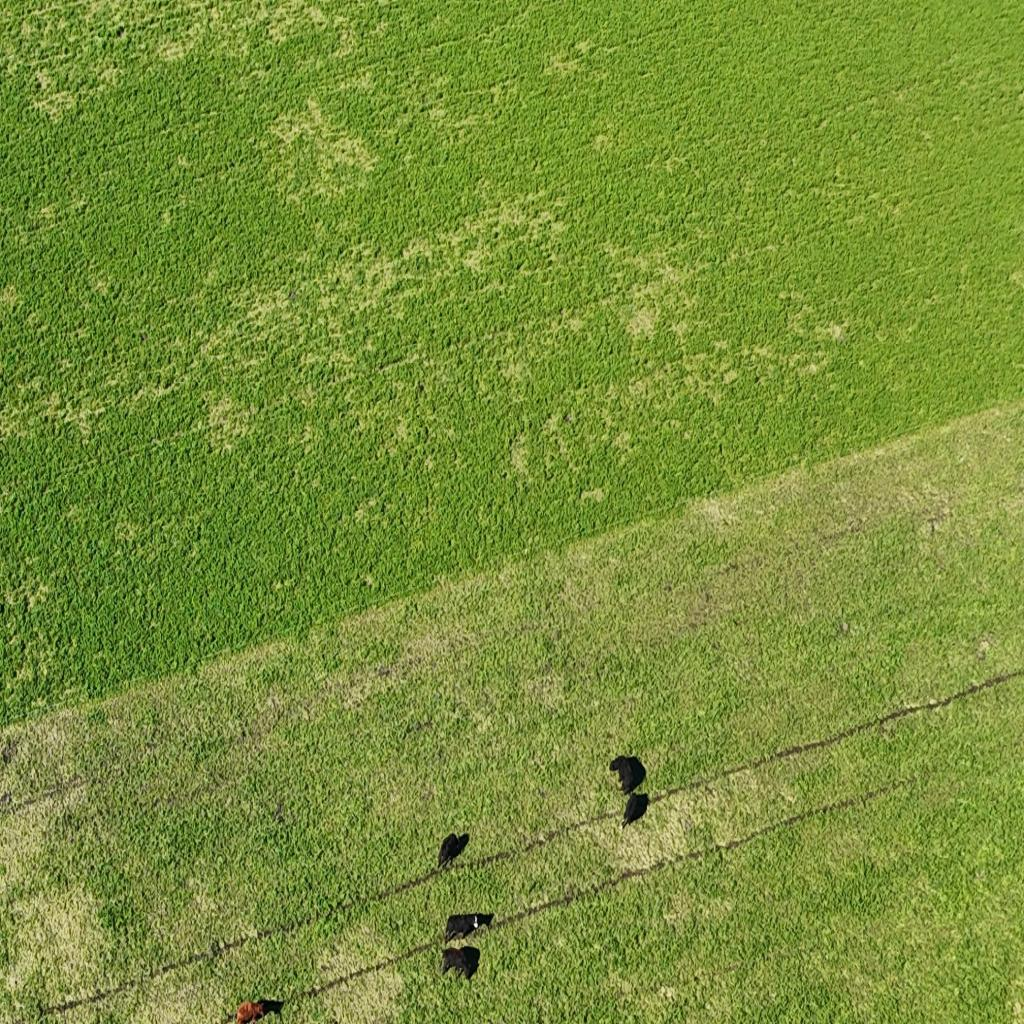cow: (442, 910, 494, 946), (441, 944, 481, 982), (619, 790, 650, 829), (609, 752, 632, 790), (436, 830, 458, 865), (236, 999, 266, 1024)
